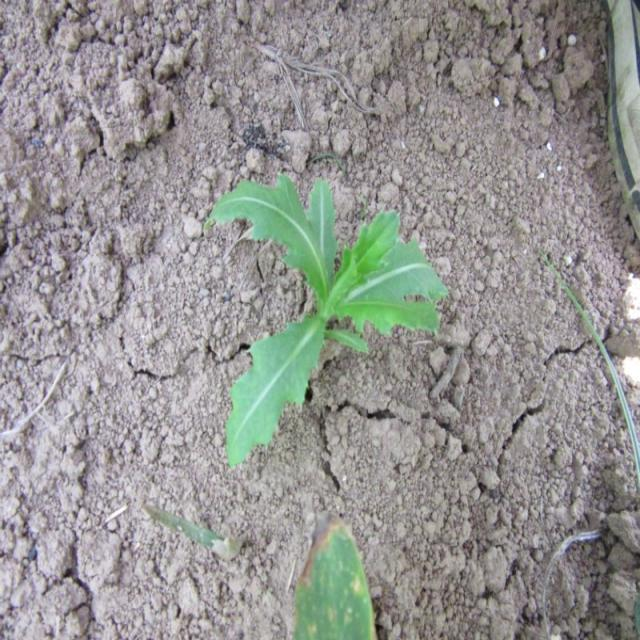field_thistle: (190, 159, 470, 471)
